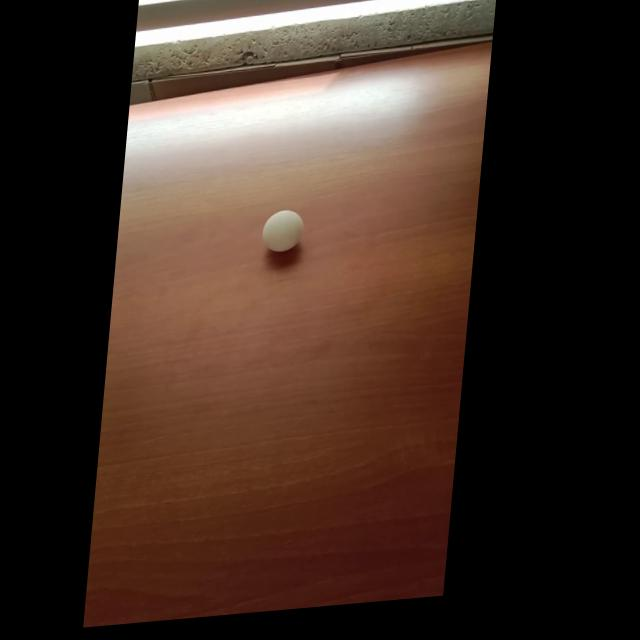white ball: (259, 208, 305, 254)
